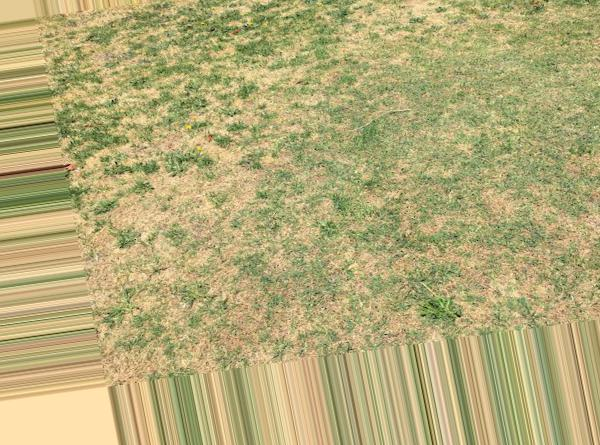patch: (118, 153, 390, 313), (169, 319, 276, 362), (282, 68, 342, 122), (157, 118, 217, 148), (126, 333, 162, 374), (312, 314, 358, 343)
